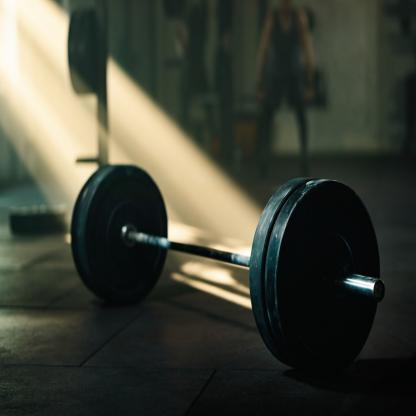barbell: (68, 162, 385, 376)
